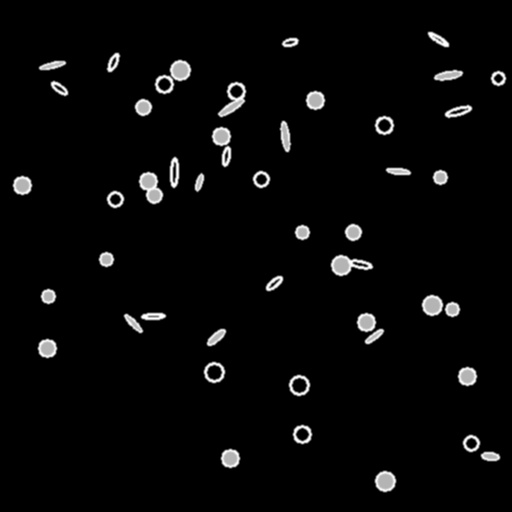pseudomonas: (217, 97, 245, 117), (123, 313, 143, 333), (444, 104, 472, 118), (206, 328, 226, 346), (427, 31, 449, 47), (49, 80, 69, 96), (364, 328, 384, 344), (265, 275, 283, 291), (280, 122, 290, 150), (435, 70, 461, 80), (40, 60, 64, 70), (170, 158, 178, 186), (349, 259, 371, 269), (107, 53, 119, 71), (221, 146, 231, 166), (387, 167, 409, 175), (282, 37, 298, 47), (194, 174, 204, 190), (142, 313, 164, 319), (482, 452, 498, 460)
synechocystis: (171, 61, 189, 79), (205, 363, 223, 381), (290, 376, 308, 394), (332, 256, 350, 274), (376, 472, 394, 490), (423, 296, 441, 314), (228, 83, 244, 99), (156, 76, 172, 92), (376, 117, 392, 133), (459, 368, 475, 384), (294, 426, 310, 442), (39, 340, 55, 356), (140, 173, 156, 189), (358, 314, 374, 330), (222, 450, 238, 466), (14, 177, 30, 193), (307, 92, 323, 108), (213, 128, 229, 144), (464, 436, 478, 450), (346, 225, 360, 239), (108, 192, 122, 206), (147, 188, 161, 202), (254, 172, 268, 186), (136, 100, 150, 114), (446, 303, 458, 315), (434, 171, 446, 183), (296, 226, 308, 238), (42, 290, 54, 302), (492, 72, 504, 84), (100, 253, 112, 265)
